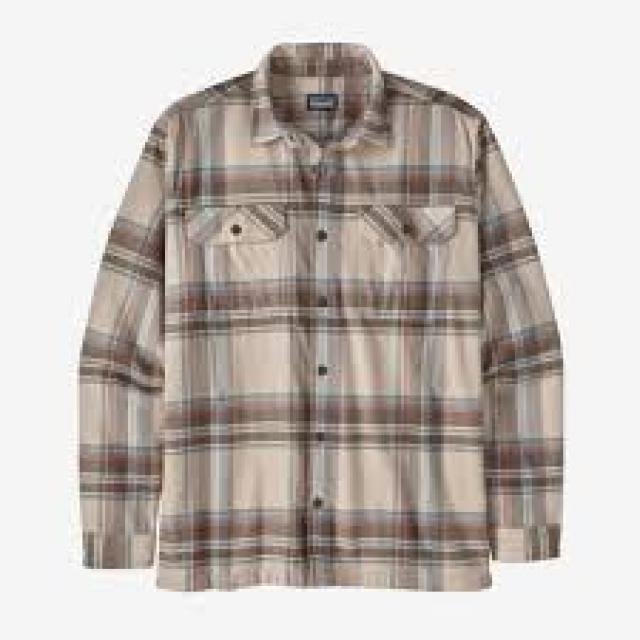plaid: (67, 28, 568, 602)
